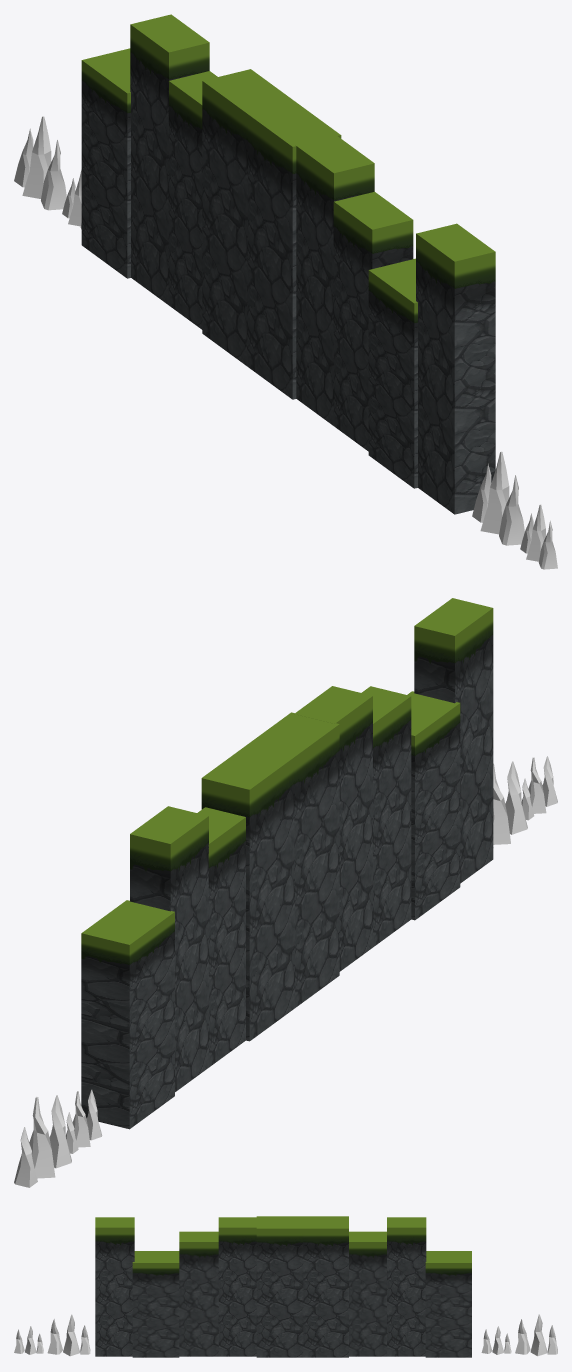
Rendered from Region_3_Level_5.fbx.
The picture shows the model from 3 angles, top to bottom: view 1: azimuth 30°, elevation 25°; view 2: azimuth 150°, elevation 25°; view 3: azimuth 270°, elevation 25°; orthographic projection. The views are drawn at different scales.
Visible parts, largest first — view 1: Cube.008, Cube.005, Cube.001; view 2: Cube.008, Cube.001, Cube.005; view 3: Cube.008, Cube.005, Cube.001.
Part boxes in pixels (x1=…): Cube.008: x1=81, y1=14, x2=495, y2=514; Cube.005: x1=472, y1=451, x2=557, y2=569; Cube.001: x1=14, y1=116, x2=81, y2=229; Cube.008: x1=81, y1=598, x2=493, y2=1129; Cube.001: x1=14, y1=1089, x2=102, y2=1187; Cube.005: x1=493, y1=756, x2=557, y2=847; Cube.008: x1=95, y1=1216, x2=471, y2=1357; Cube.005: x1=14, y1=1314, x2=90, y2=1356; Cube.001: x1=481, y1=1314, x2=557, y2=1356.
Size of the model in its own units: 234 by 1173 by 4459.
